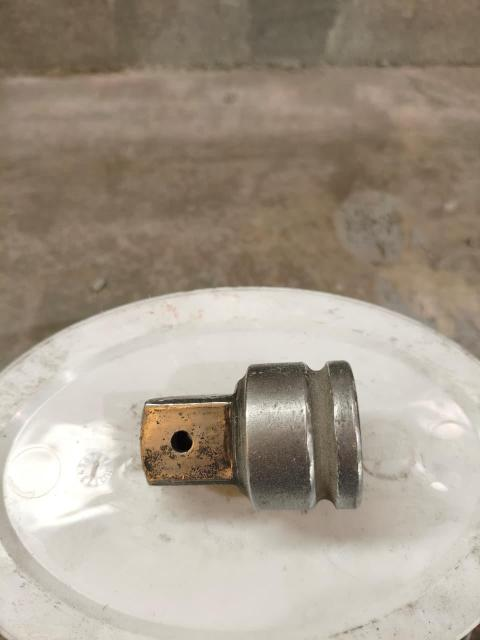Metal: (138, 365, 365, 508)
